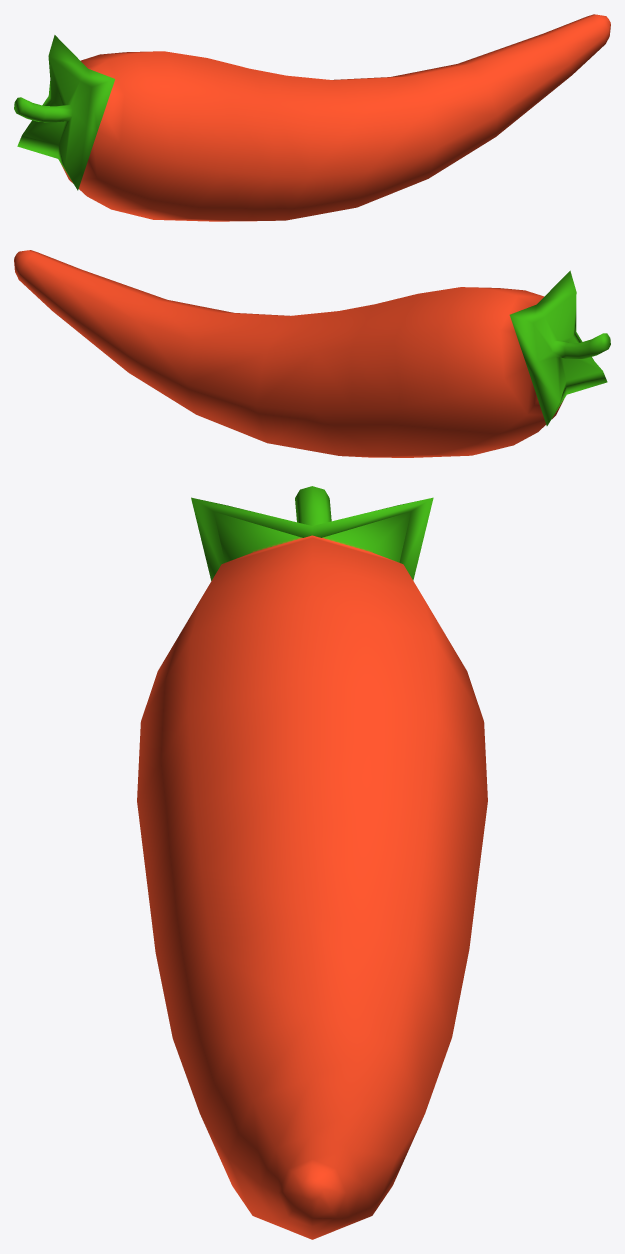
File: chilli.fbx
3 views of the same model, one above another, from view 1: azimuth 30°, elevation 25°; view 2: azimuth 150°, elevation 25°; view 3: azimuth 270°, elevation 25° (orthographic). The views are drawn at different scales.
Visible parts, largest first — view 1: Chilli; view 2: Chilli; view 3: Chilli.
Part boxes in pixels (left/top/right/bottom): Chilli: left=14, top=14, right=610, bottom=221; Chilli: left=14, top=250, right=610, bottom=457; Chilli: left=137, top=486, right=487, bottom=1239.
Bounding box in the file's own units: 56.33 × 19.19 × 14.44.
1 material, 1 textured.
